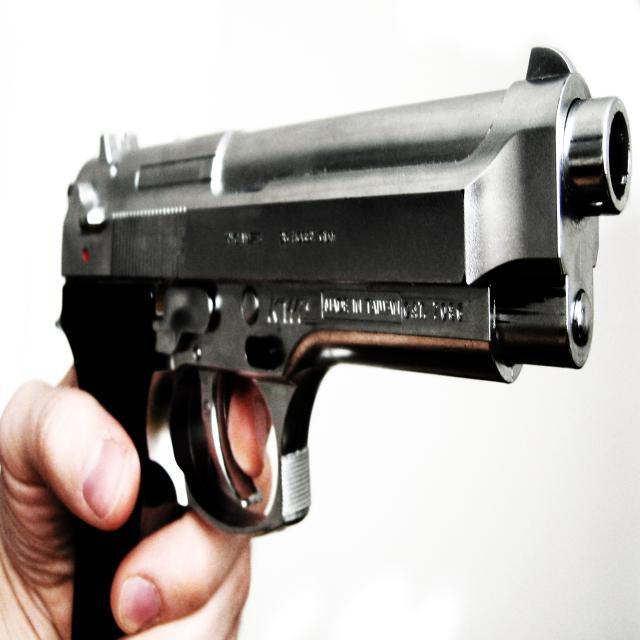Pistol: (38, 35, 640, 611)
